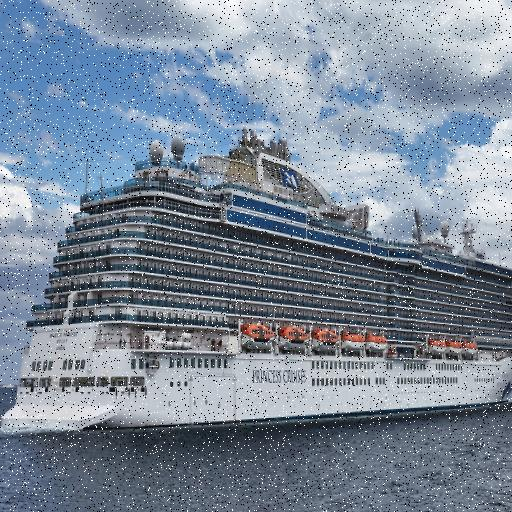cruises: (1, 126, 512, 440)
